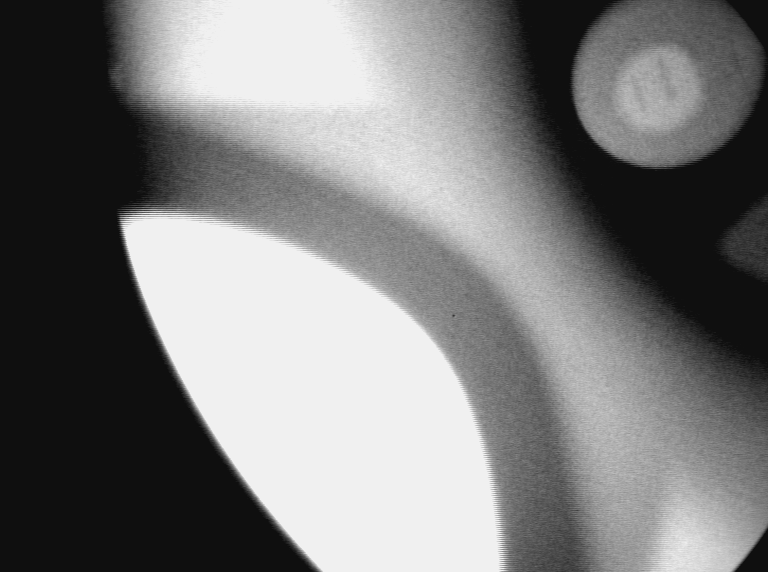defect: (106, 61, 128, 95)
